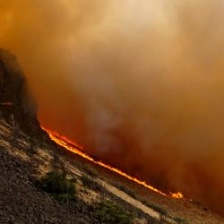fire: (54, 134, 187, 198)
smoke: (40, 1, 224, 122)
